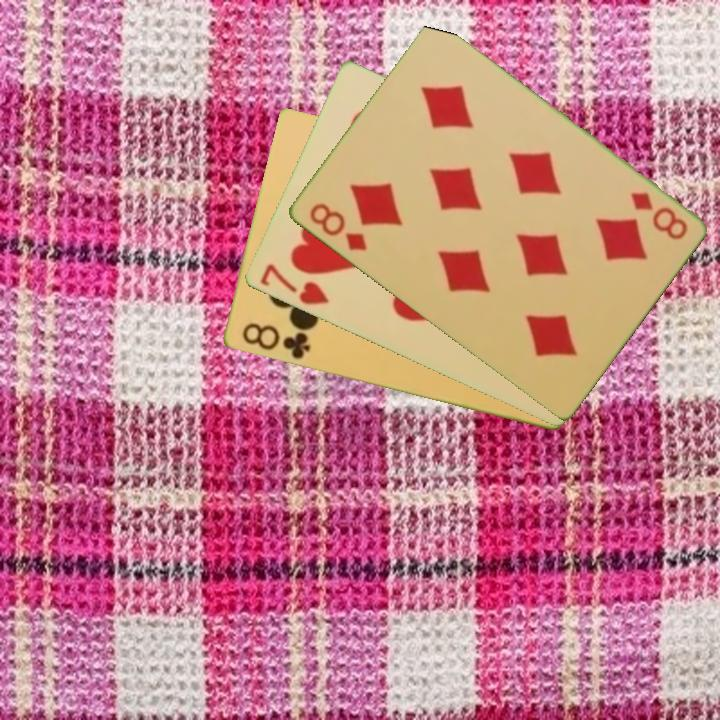7h: (256, 260, 332, 308)
8c: (238, 319, 313, 363)
8d: (305, 199, 370, 254), (626, 188, 690, 243)
